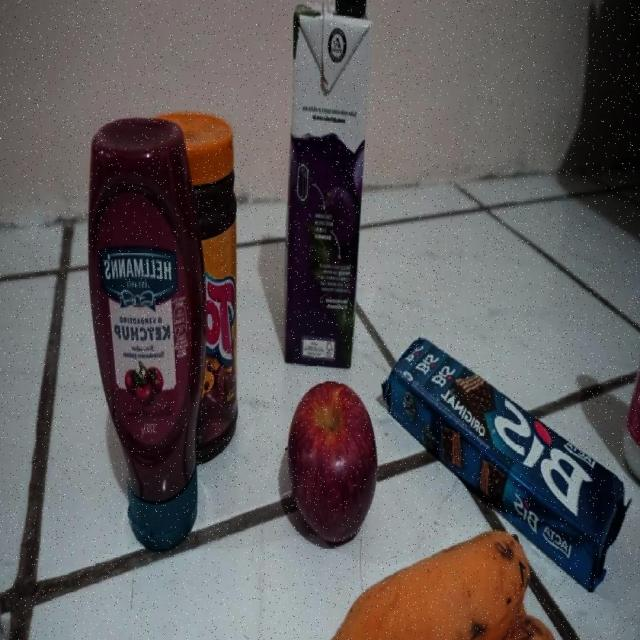Apple: (288, 381, 377, 547)
Banana: (315, 529, 566, 640)
ChocolatePowder: (185, 110, 240, 482)
CoconutMilk: (623, 290, 640, 494)
Mayonnaise: (86, 115, 210, 553)
